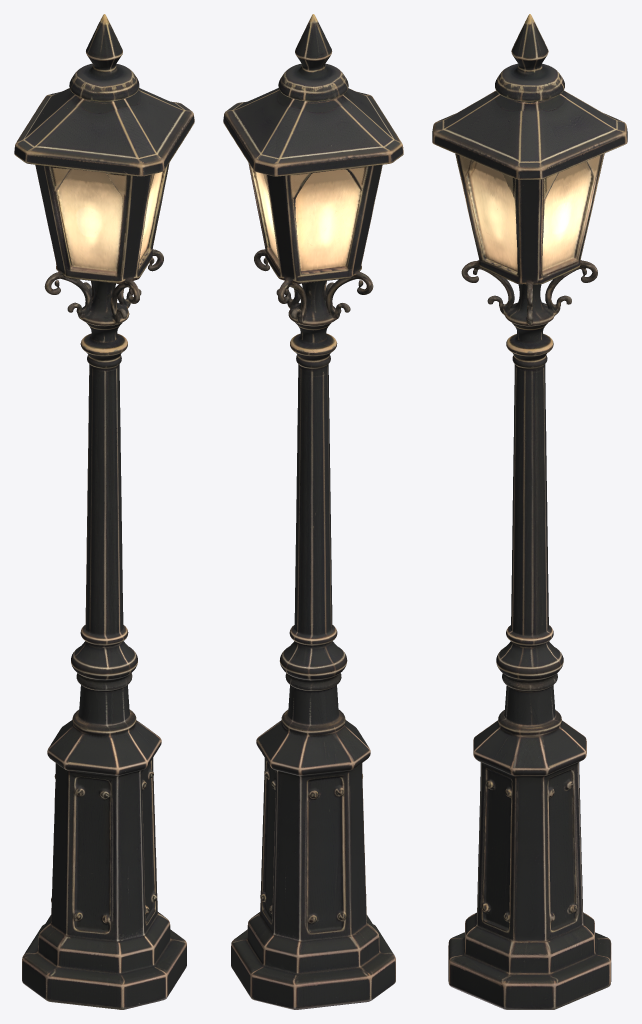
File: lamp.glb
3 views of the same model, side by side, from view 1: azimuth 30°, elevation 25°; view 2: azimuth 150°, elevation 25°; view 3: azimuth 270°, elevation 25° (orthographic).
Bounding box in the file's own units: 0.349 × 1.9 × 0.3496.
Materials: 1 (1 with a texture image).
